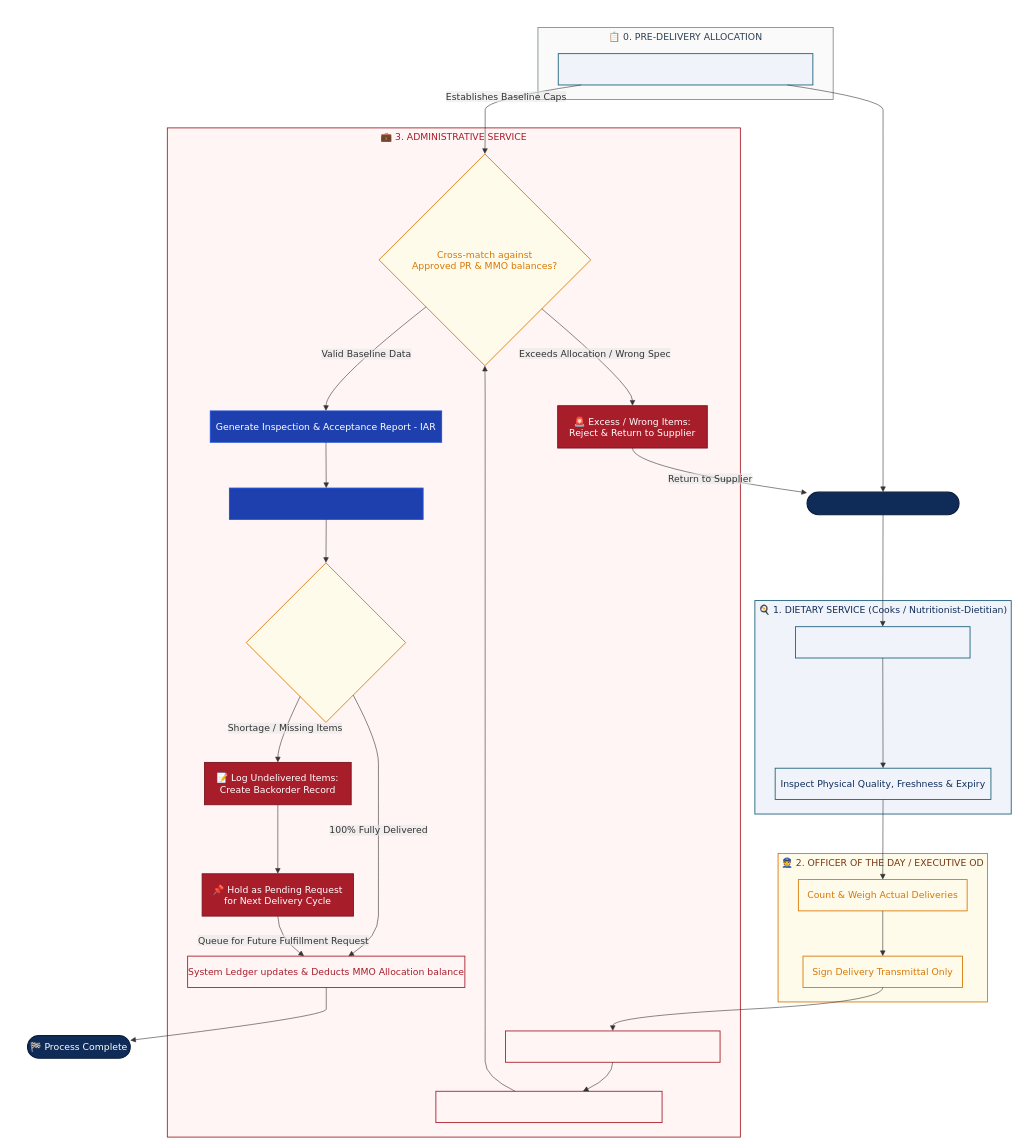
The diagram is 1021 pixels wide and 1147 high, and some of its shapes have lost their labels. Each missing label, with the centre of its shape:
"Dietary Service: Drafts Monthly Market Orders - MMO" belongs at (685,69).
"Encode DR & SOA Data into Monitoring System" belongs at (548,1107).
"Facilitate & Collect DR and SOA Documents" belongs at (612,1046).
"Generate Requisition & Issue Slip - RIS" belongs at (326,503).
"Is delivery complete per MMO requirement?" belongs at (326,642).
"Receive Delivery Transmittal Only" belongs at (882,642).
"🚚 Supplier Arrives with Delivery" belongs at (882,503).
